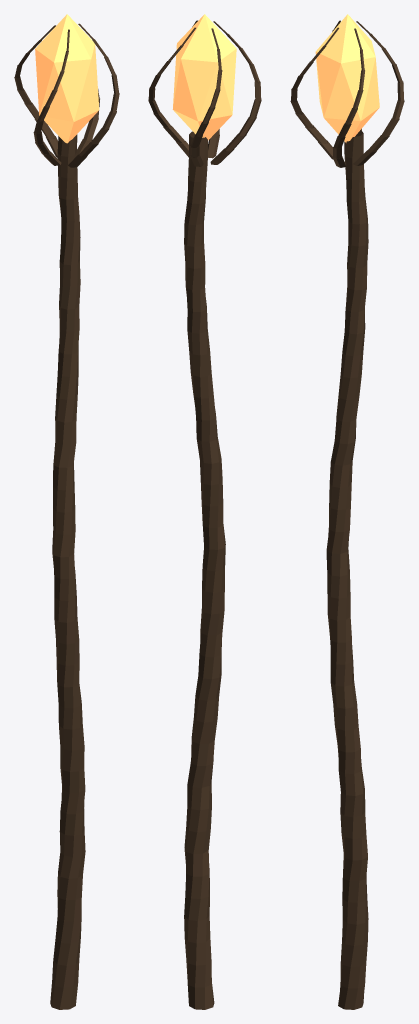
The model's file is Cajado_Rubi.glb.
3 views of the same model, side by side, from view 1: azimuth 30°, elevation 25°; view 2: azimuth 150°, elevation 25°; view 3: azimuth 330°, elevation 25° (orthographic).
Visible parts, largest first — view 1: Cabo, Cristal; view 2: Cabo, Cristal; view 3: Cabo, Cristal.
Boxes of the visible parts, x1,y1,x2,y2 form: Cabo: [14, 23, 119, 1009]; Cristal: [35, 14, 99, 143]; Cabo: [148, 20, 261, 1009]; Cristal: [172, 14, 236, 140]; Cabo: [290, 20, 404, 1009]; Cristal: [315, 14, 379, 142].
Bounding box in the file's own units: 0.1646 × 1.82 × 0.1652.
